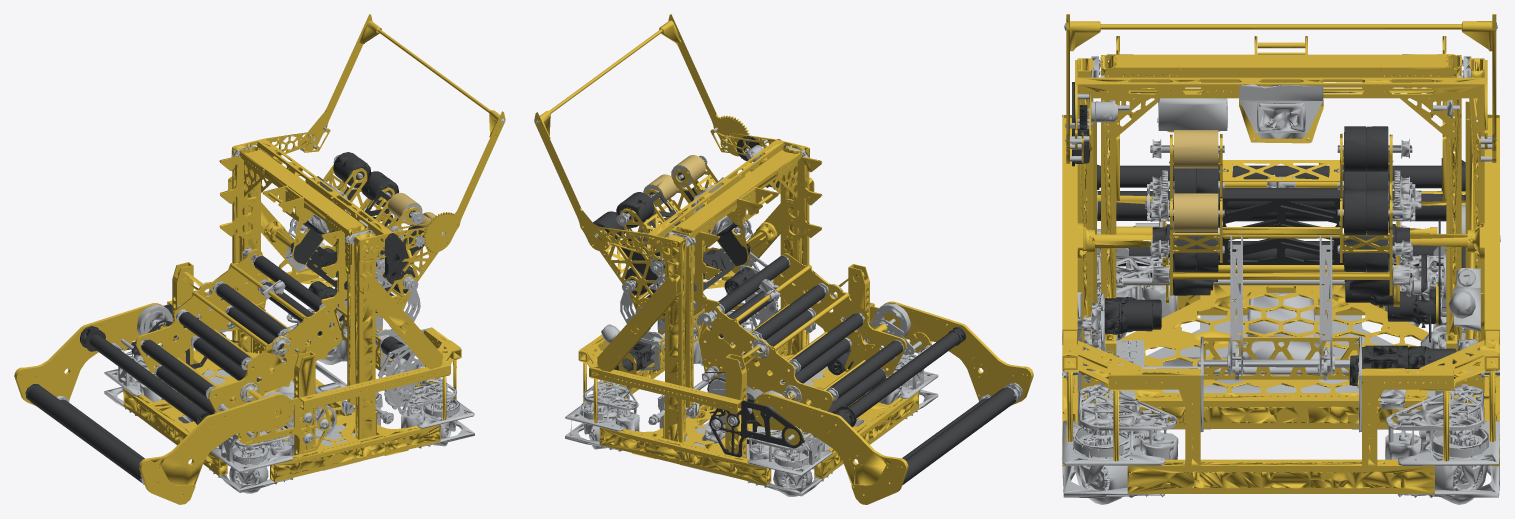
The model's file is gold-rush-27.glb.
3 renders of one model, left to right at view 1: azimuth 30°, elevation 25°; view 2: azimuth 150°, elevation 25°; view 3: azimuth 270°, elevation 25°, orthographic. The views are drawn at different scales.
Parts seen in each view (by area): view 1: frame, shooter, intake, climber, amp, amp-base; view 2: frame, shooter, intake, climber, amp, amp-base; view 3: frame, shooter, climber, amp, intake, amp-base.
Part boxes in pixels (bbox=[...]): frame: bbox=[14, 139, 474, 504]; shooter: bbox=[288, 152, 438, 317]; intake: bbox=[111, 262, 336, 461]; climber: bbox=[219, 146, 368, 412]; amp: bbox=[300, 14, 505, 252]; amp-base: bbox=[231, 131, 441, 264]; frame: bbox=[565, 139, 1033, 504]; shooter: bbox=[593, 155, 752, 319]; intake: bbox=[707, 264, 931, 464]; climber: bbox=[672, 147, 822, 415]; amp: bbox=[534, 14, 767, 250]; amp-base: bbox=[597, 132, 809, 265]; frame: bbox=[1062, 54, 1499, 504]; shooter: bbox=[1145, 126, 1417, 295]; climber: bbox=[1093, 36, 1469, 344]; amp: bbox=[1064, 14, 1497, 163]; intake: bbox=[1085, 190, 1500, 342]; amp-base: bbox=[1065, 60, 1487, 149].
Bounding box in the file's own units: 1.11 × 0.9605 × 0.7245.
